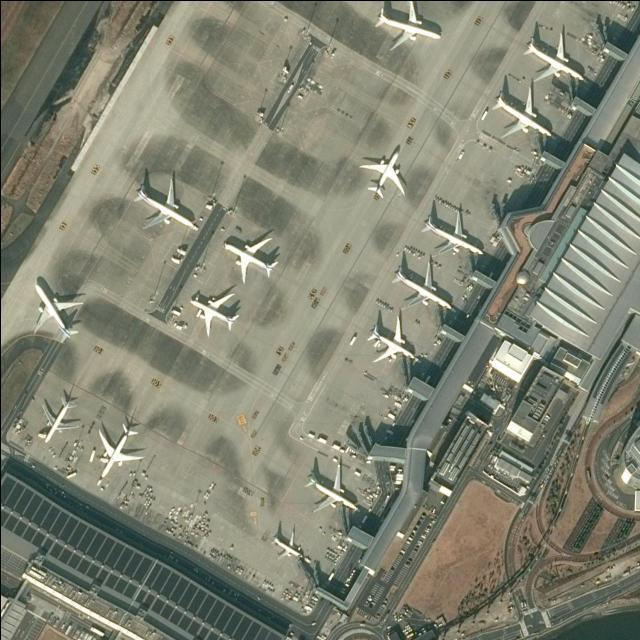Aircraft: (130, 176, 199, 234), (30, 272, 84, 340), (489, 85, 552, 141), (527, 27, 587, 84), (393, 259, 454, 315), (425, 208, 486, 260), (304, 462, 360, 517), (375, 0, 441, 45), (182, 289, 247, 334), (218, 234, 281, 280), (367, 311, 419, 365), (362, 144, 410, 199), (95, 422, 143, 473), (39, 392, 79, 442), (273, 531, 307, 557)
